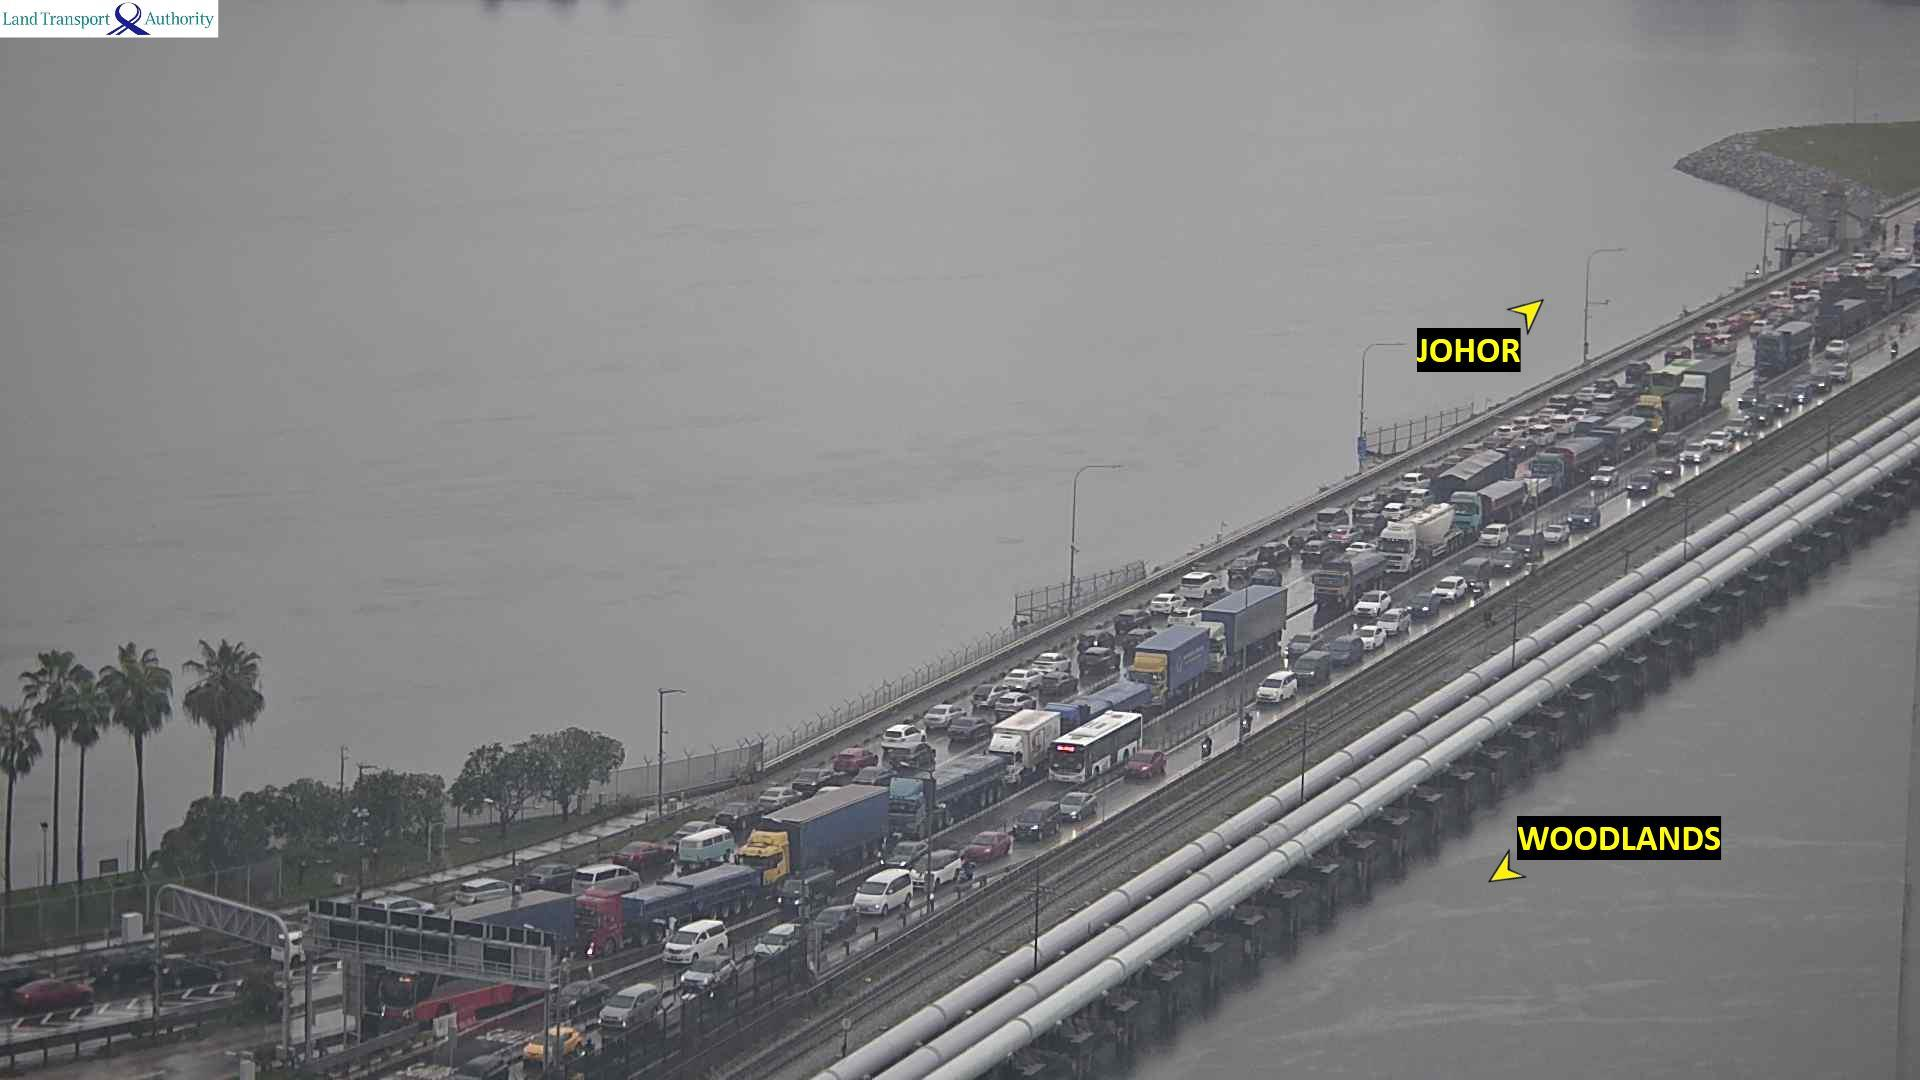vehicle-causeway-johor: (679, 829, 735, 864), (518, 868, 575, 891), (373, 891, 433, 914), (615, 841, 671, 864), (456, 882, 522, 899), (945, 717, 993, 741), (880, 724, 926, 748), (833, 748, 880, 770), (890, 744, 936, 766), (1080, 649, 1120, 673), (1182, 572, 1218, 597), (716, 800, 760, 822), (570, 869, 632, 884), (673, 823, 717, 843), (1116, 609, 1151, 632), (753, 790, 803, 806), (924, 705, 964, 725), (1040, 674, 1077, 695), (973, 684, 1009, 705), (1031, 653, 1071, 671), (996, 695, 1038, 712), (795, 769, 831, 789), (1077, 632, 1113, 650), (1006, 669, 1039, 688), (1317, 508, 1348, 529), (1259, 543, 1291, 563), (1328, 526, 1364, 543), (1230, 558, 1261, 578), (1702, 336, 1739, 352), (853, 769, 897, 782), (1149, 595, 1187, 609), (1303, 541, 1331, 559), (1527, 426, 1555, 444), (1167, 611, 1199, 626), (1251, 570, 1283, 585), (1625, 363, 1651, 381), (1352, 496, 1382, 512), (1288, 529, 1317, 545), (1358, 513, 1382, 531), (1406, 489, 1431, 506), (1552, 417, 1578, 433), (1705, 320, 1733, 334), (1402, 473, 1428, 487), (1551, 394, 1575, 409), (1593, 396, 1617, 410), (1383, 504, 1407, 517), (1665, 347, 1691, 359), (1571, 407, 1589, 423), (1593, 378, 1617, 390), (1791, 280, 1808, 295), (1497, 427, 1519, 438), (1767, 291, 1787, 303), (1854, 264, 1875, 274), (1735, 310, 1759, 319), (1751, 322, 1767, 335), (1775, 305, 1797, 314), (1536, 409, 1555, 419), (1461, 444, 1482, 454), (1578, 388, 1594, 400), (1439, 458, 1455, 468), (1516, 417, 1536, 425)
vehicle-causeway-singapore: (365, 893, 572, 1025), (572, 872, 764, 942), (746, 794, 895, 878), (985, 703, 1145, 777), (887, 762, 1010, 827), (1199, 589, 1296, 654), (1051, 715, 1143, 781), (1125, 630, 1218, 695), (1375, 513, 1470, 570), (1448, 480, 1563, 524), (1313, 555, 1402, 604), (1635, 390, 1722, 434), (1755, 323, 1811, 376), (599, 984, 659, 1027), (1540, 442, 1614, 477), (851, 873, 915, 910), (678, 956, 750, 988), (1866, 268, 1919, 311), (1681, 363, 1730, 407), (781, 872, 848, 903), (1811, 299, 1867, 336), (553, 982, 609, 1017), (524, 1029, 580, 1063), (914, 855, 972, 886), (1590, 419, 1650, 450), (796, 907, 858, 936), (1014, 803, 1063, 839), (757, 923, 800, 960), (451, 1054, 508, 1080), (1124, 749, 1167, 781), (671, 919, 733, 940), (1253, 676, 1294, 705), (1294, 653, 1331, 682), (1054, 791, 1098, 815), (1510, 529, 1544, 558), (960, 839, 1010, 858), (1328, 637, 1362, 663), (1361, 616, 1410, 634), (1349, 628, 1393, 647), (1354, 591, 1390, 615), (1284, 633, 1321, 655), (1432, 576, 1465, 600), (1407, 593, 1439, 617), (1561, 513, 1604, 530), (1482, 553, 1527, 568), (1676, 450, 1717, 465), (1480, 525, 1507, 547), (1702, 431, 1734, 450), (1629, 475, 1656, 495), (1648, 462, 1680, 479), (1656, 433, 1685, 451), (1767, 394, 1793, 413), (1722, 418, 1750, 435), (1590, 469, 1622, 484), (1745, 409, 1772, 425), (1545, 525, 1571, 542), (1828, 364, 1851, 381), (1825, 340, 1849, 357), (1788, 385, 1811, 401), (1808, 375, 1832, 389), (1741, 386, 1755, 405), (1200, 736, 1213, 756), (1244, 712, 1253, 732), (1891, 340, 1899, 357)
